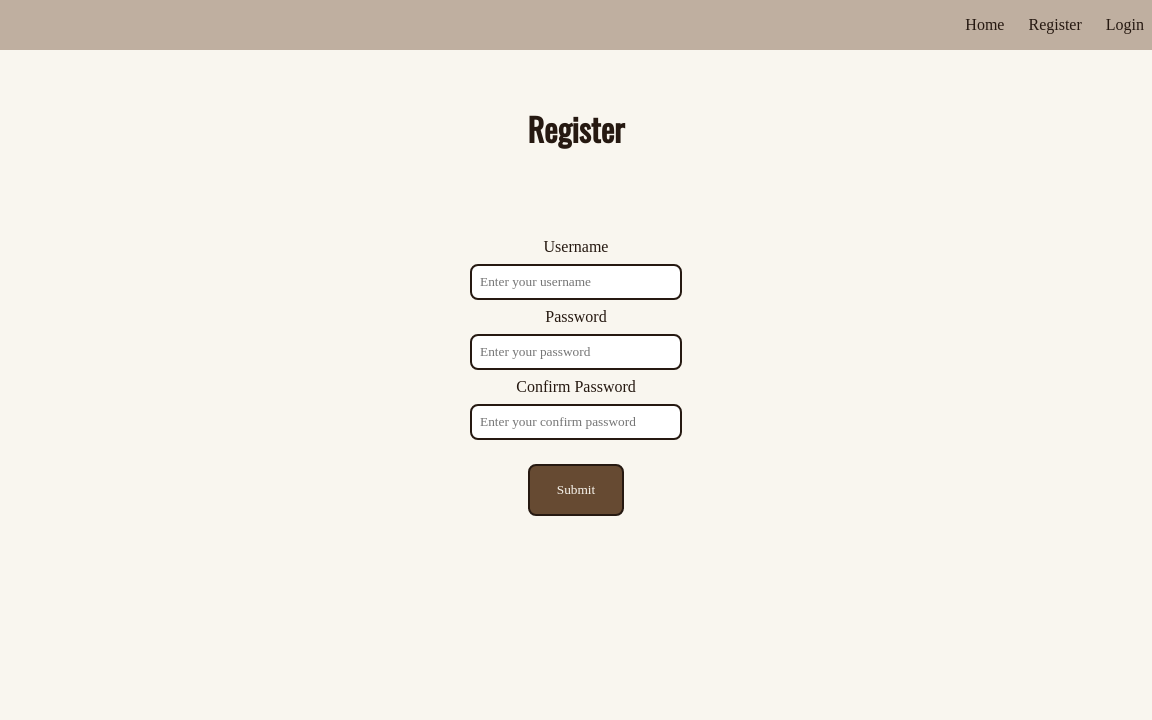
Test: Register page › Display error when passwords don't match
In the field with test id "Username": coordinates (576, 282) [470,264,682,300], type "username here"
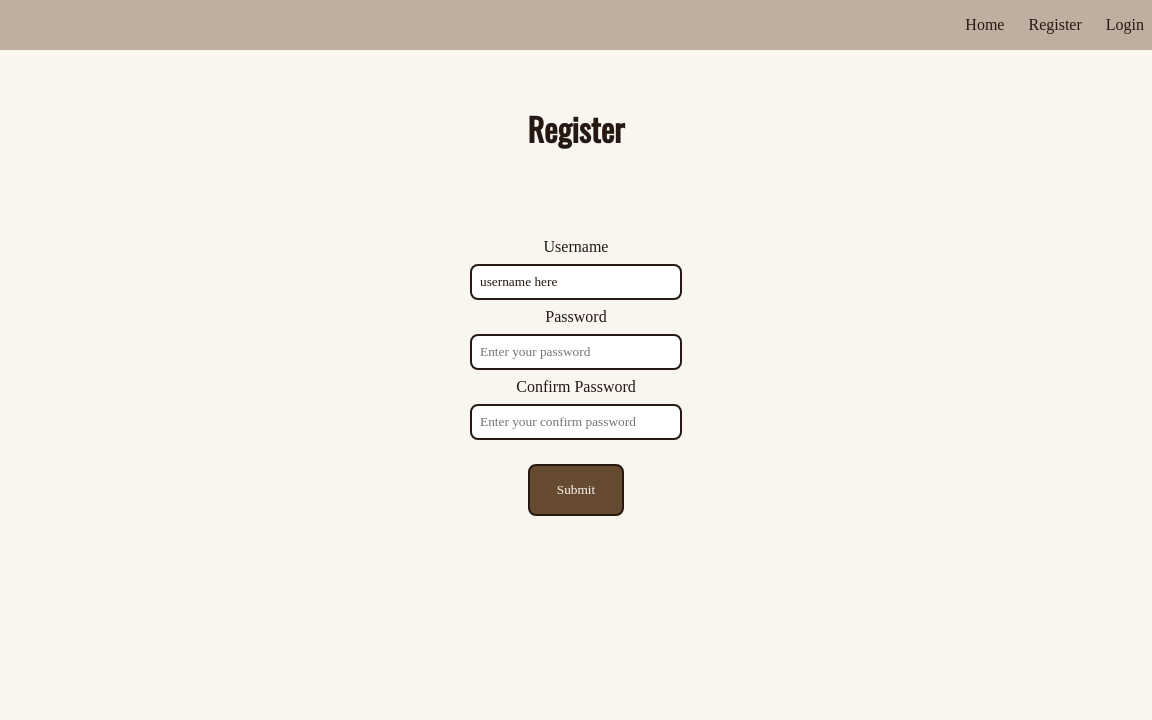
In the password field with test id "Password": coordinates (576, 352) [470,334,682,370], type "password"
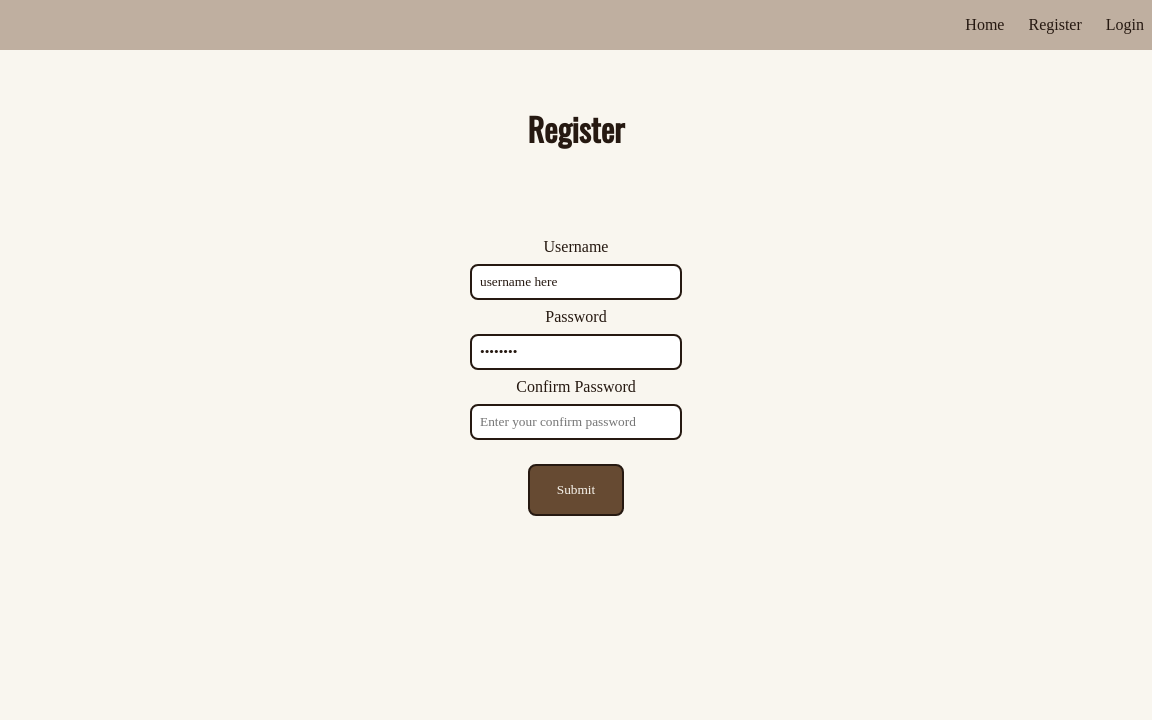
In the password field with test id "Confirm Password": coordinates (576, 422) [470,404,682,440], type "confirm password"
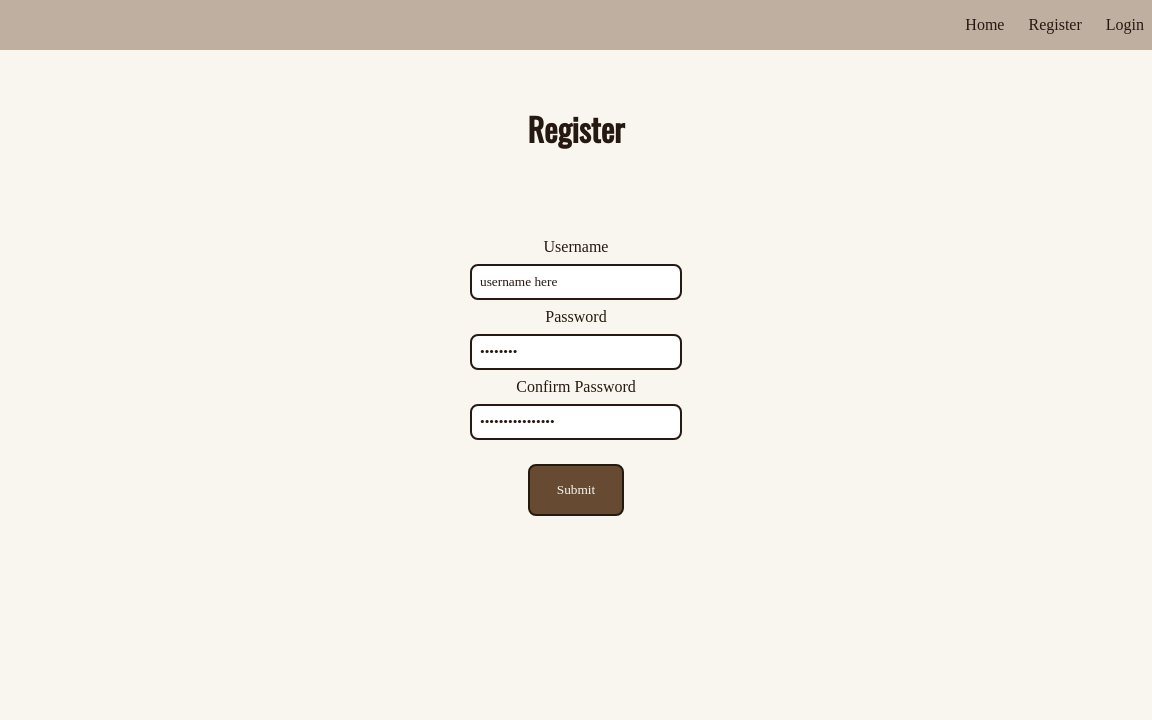
Click the button "Submit": coordinates (576, 490) [528,464,624,516]
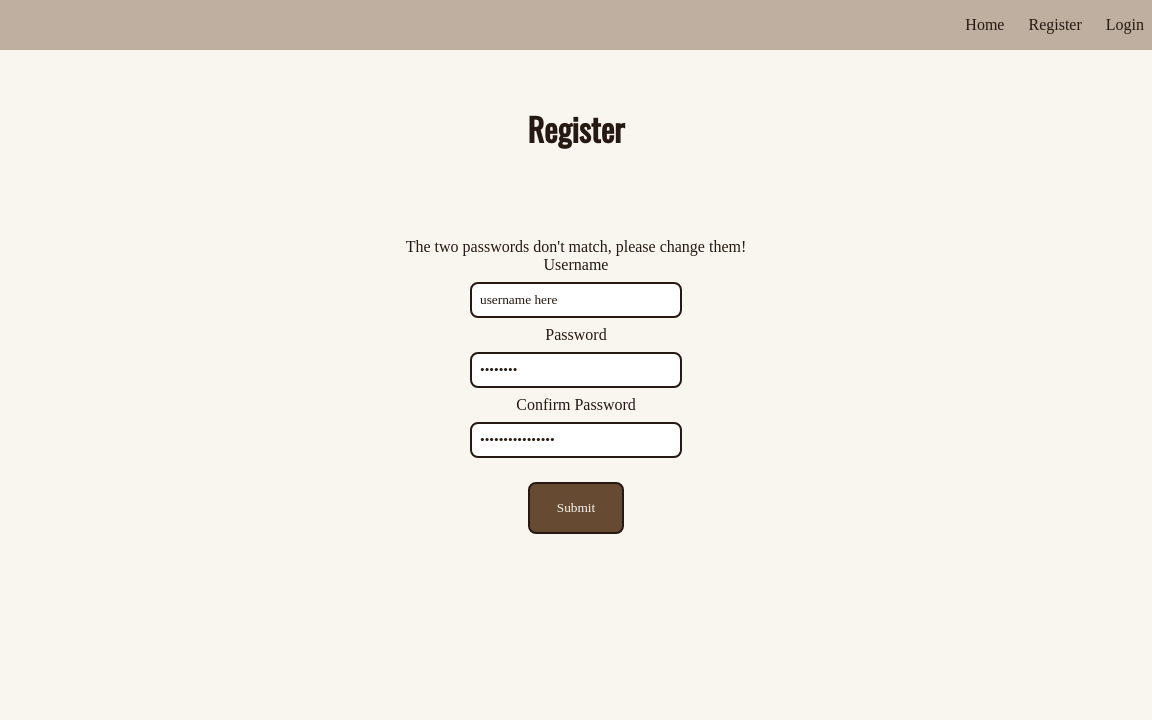
Expected: the text "The two passwords don't match, please change them!" is shown, [406,238,746,255]
